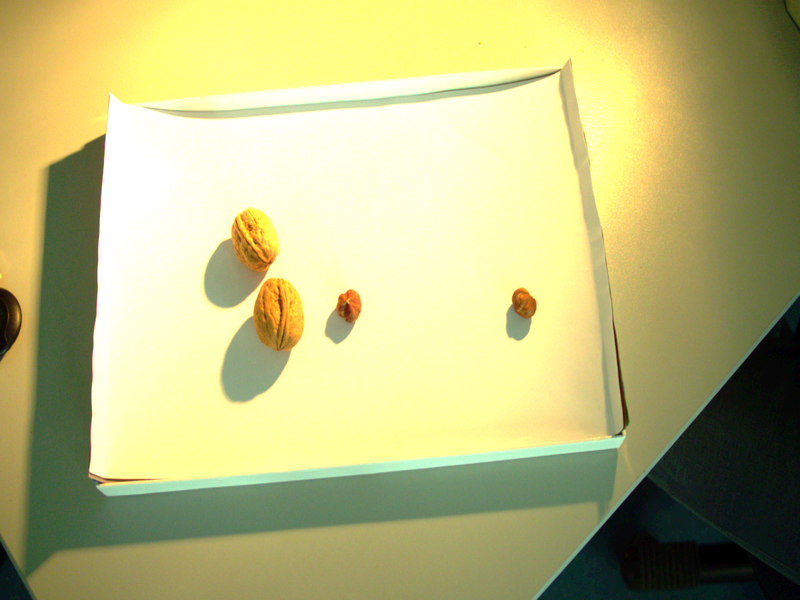walnut: (249, 274, 311, 357), (227, 204, 286, 274)
